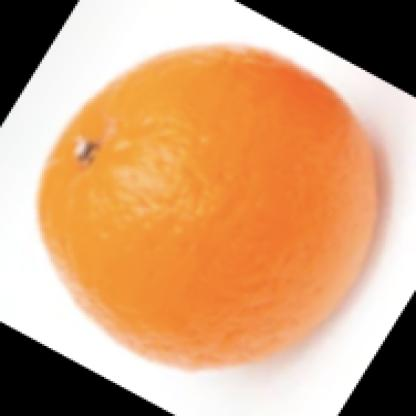fresh: (44, 43, 378, 368)
